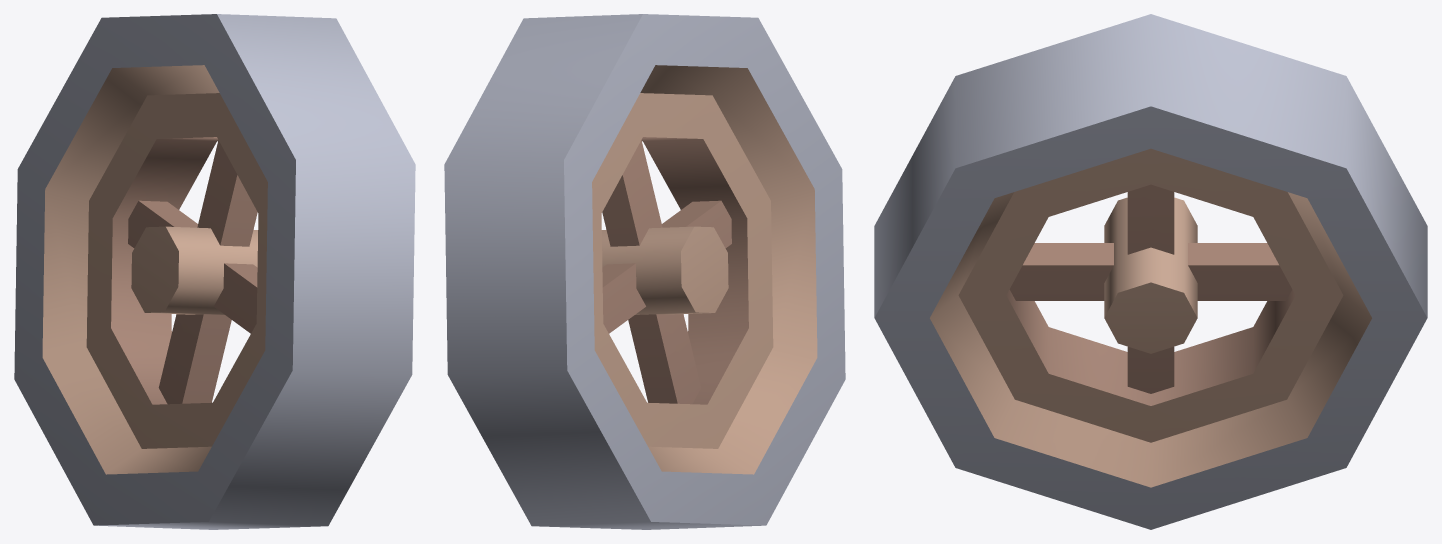
Rendered from wheel.glb.
3 renders of one model, left to right at view 1: azimuth 30°, elevation 25°; view 2: azimuth 150°, elevation 25°; view 3: azimuth 270°, elevation 25°, orthographic.
Parts seen in each view (by area): view 1: wheel; view 2: wheel; view 3: wheel.
Boxes of the visible parts, box(x1,y1,x2,y2) form: wheel: box(14, 14, 415, 529); wheel: box(444, 14, 845, 529); wheel: box(874, 14, 1427, 529).
Bounding box in the file's own units: 0.2384 × 0.4833 × 0.4678.
